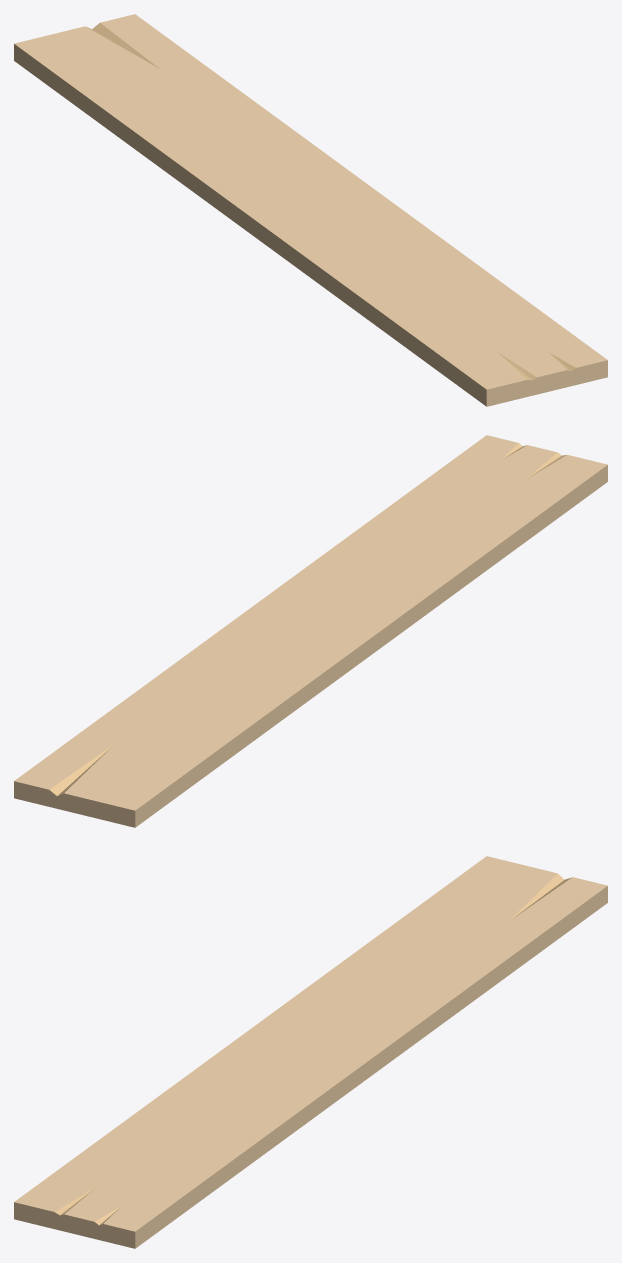
The model's file is Wood_04_dra.glb.
3 renders of one model, top to bottom at view 1: azimuth 30°, elevation 25°; view 2: azimuth 150°, elevation 25°; view 3: azimuth 330°, elevation 25°, orthographic.
Parts seen in each view (by area): view 1: Wood_04; view 2: Wood_04; view 3: Wood_04.
Boxes of the visible parts, x1,y1,x2,y2 form: Wood_04: [14, 14, 607, 406]; Wood_04: [14, 435, 607, 827]; Wood_04: [14, 856, 607, 1248].
Size of the model in its own units: 0.3227 by 0.0437 by 2.18.
Materials: 1 (1 with a texture image).
